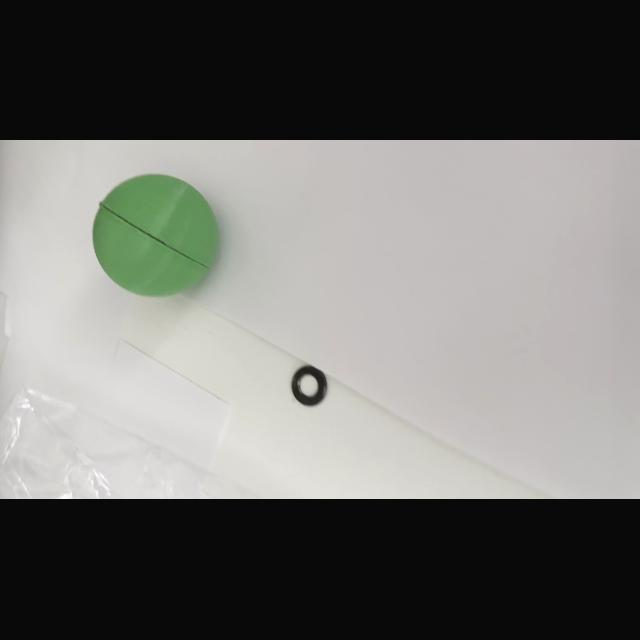objects: (90, 171, 226, 301)
